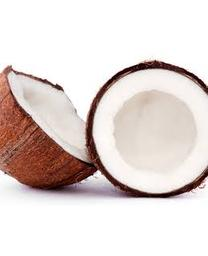coconut: (88, 61, 207, 195), (2, 64, 100, 190)
